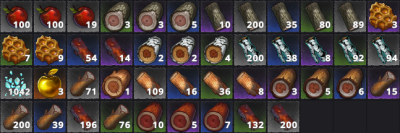ash heartwood: (167, 1, 198, 31), (101, 1, 131, 31), (134, 1, 165, 30)
ash log: (267, 1, 299, 31), (201, 1, 232, 31), (334, 1, 365, 31), (235, 1, 264, 31), (301, 1, 331, 30)
birch heartwood: (201, 34, 232, 65), (167, 34, 198, 64), (135, 35, 164, 64)
birch log: (235, 34, 265, 65), (335, 33, 365, 64), (269, 35, 299, 64), (302, 34, 331, 64), (369, 35, 398, 65)
ethereal dust: (1, 67, 31, 97)
oak heartwood: (100, 69, 131, 96)
oak log: (235, 68, 266, 98), (169, 68, 198, 98), (135, 68, 164, 97), (202, 68, 231, 97)
spruce heartwood: (302, 68, 332, 97), (336, 67, 364, 97), (269, 69, 297, 97)
spruce log: (101, 101, 132, 131), (68, 66, 96, 97), (2, 102, 31, 131), (35, 102, 64, 131), (370, 68, 398, 98)
yew heartwood: (202, 101, 232, 132), (135, 101, 165, 131), (168, 102, 198, 131)
yew log: (68, 101, 98, 131), (235, 101, 265, 131), (268, 101, 298, 131), (68, 35, 98, 64), (102, 35, 131, 64)
